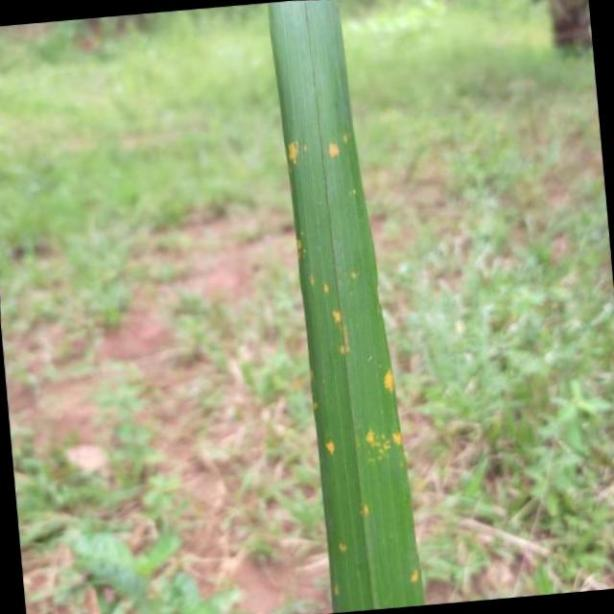Kalium: (264, 0, 425, 614)
